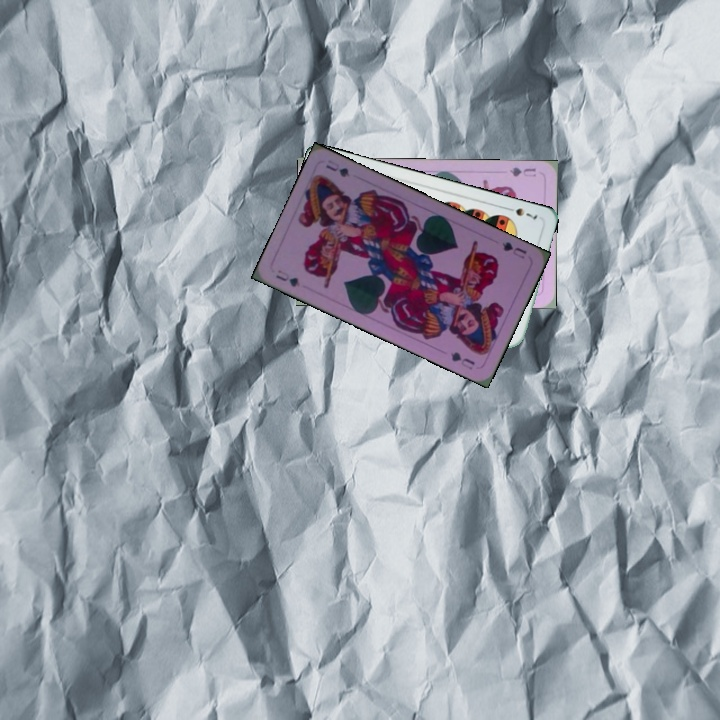GU: (272, 265, 303, 290), (498, 237, 529, 261), (506, 163, 538, 179)
S7: (502, 203, 540, 222)
